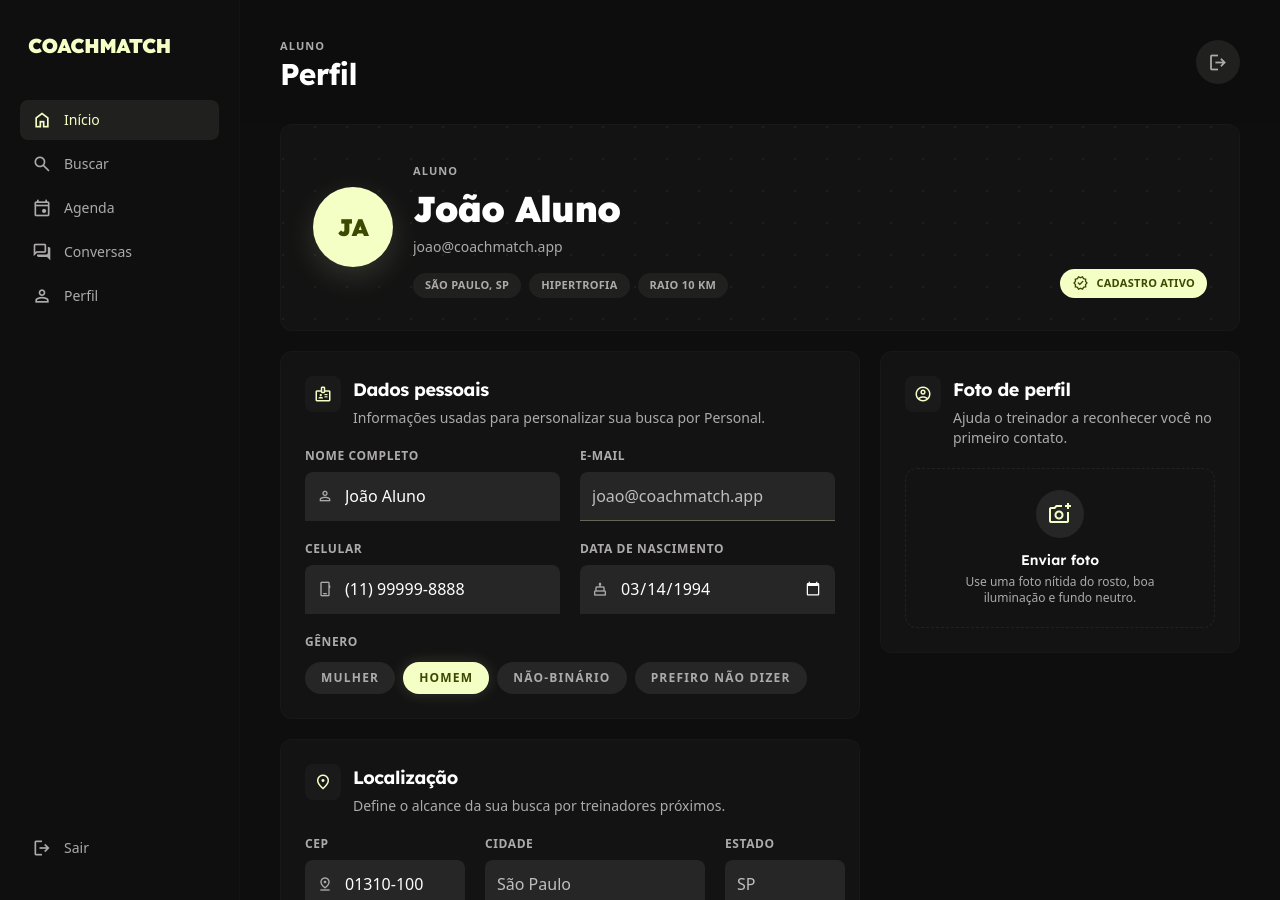
Test: ClientProfilePage › carrega o perfil e salva alterações em POST /student/me/profile
The image size is (1280, 900).
Expected: the field showing "(11) 99999-8888" is shown, [345, 576, 548, 600]
Replace the text in the field labelled "Nome completo" with "João Costa" at [446, 496], box [345, 484, 548, 508]
(page scrolled)
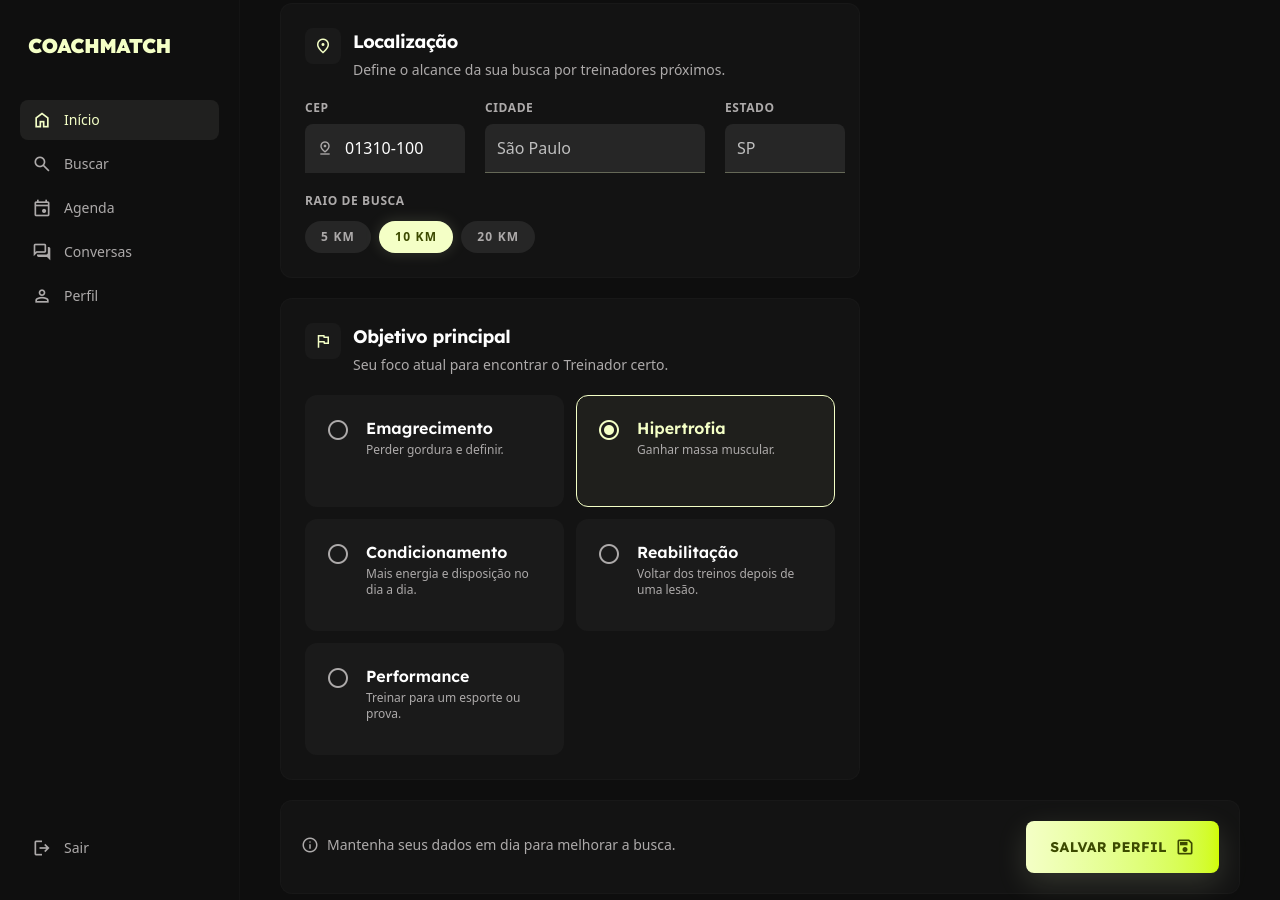
Click the button "Emagrecimento Perder gordura e definir.".
click(434, 450)  # box [305, 394, 564, 506]
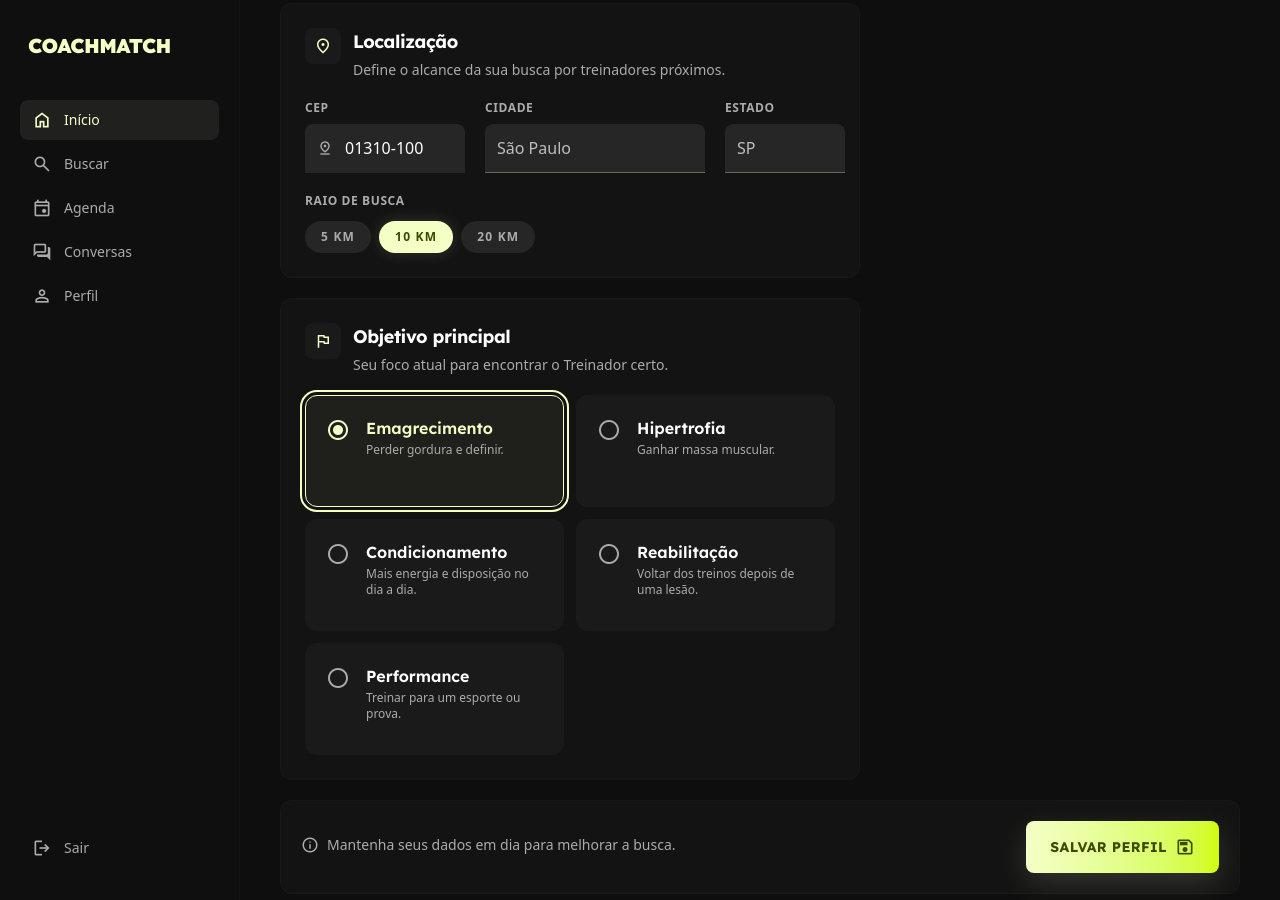
Click the button "20 km".
click(498, 236)  # box [461, 220, 535, 252]
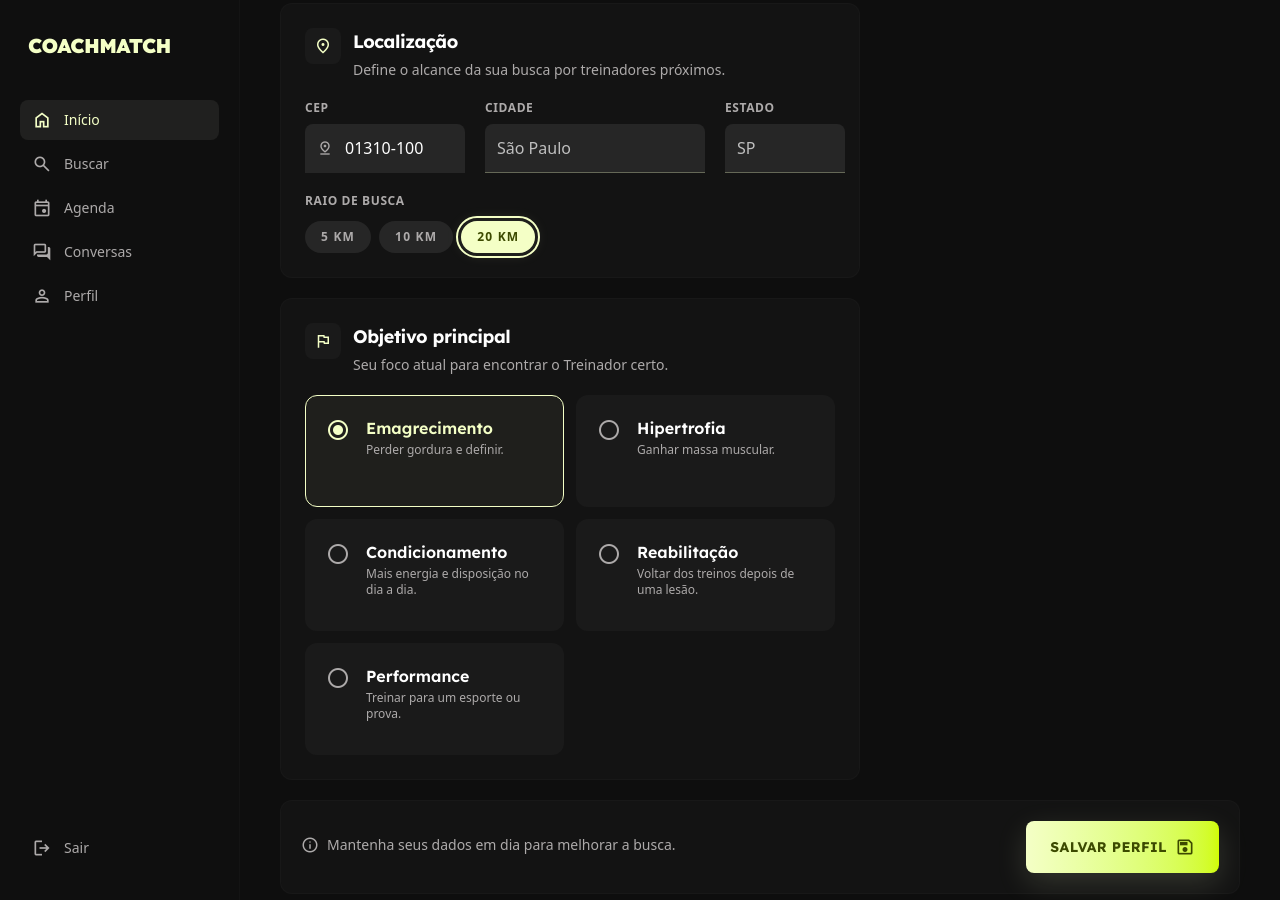
Click the button "SALVAR PERFIL".
click(1123, 846)  # box [1026, 820, 1219, 872]
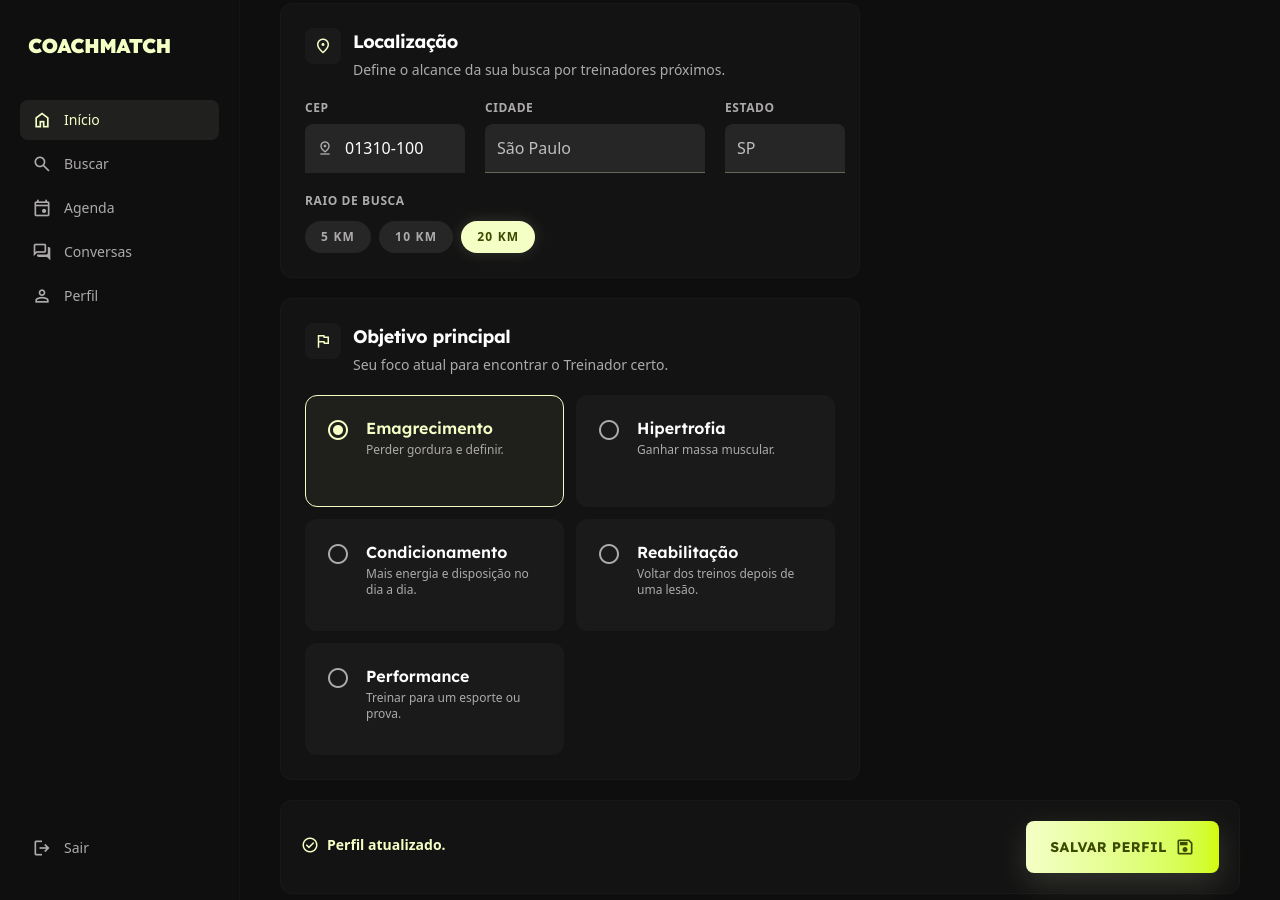
Expected: the text "Perfil atualizado." is shown, [301, 834, 446, 854]
